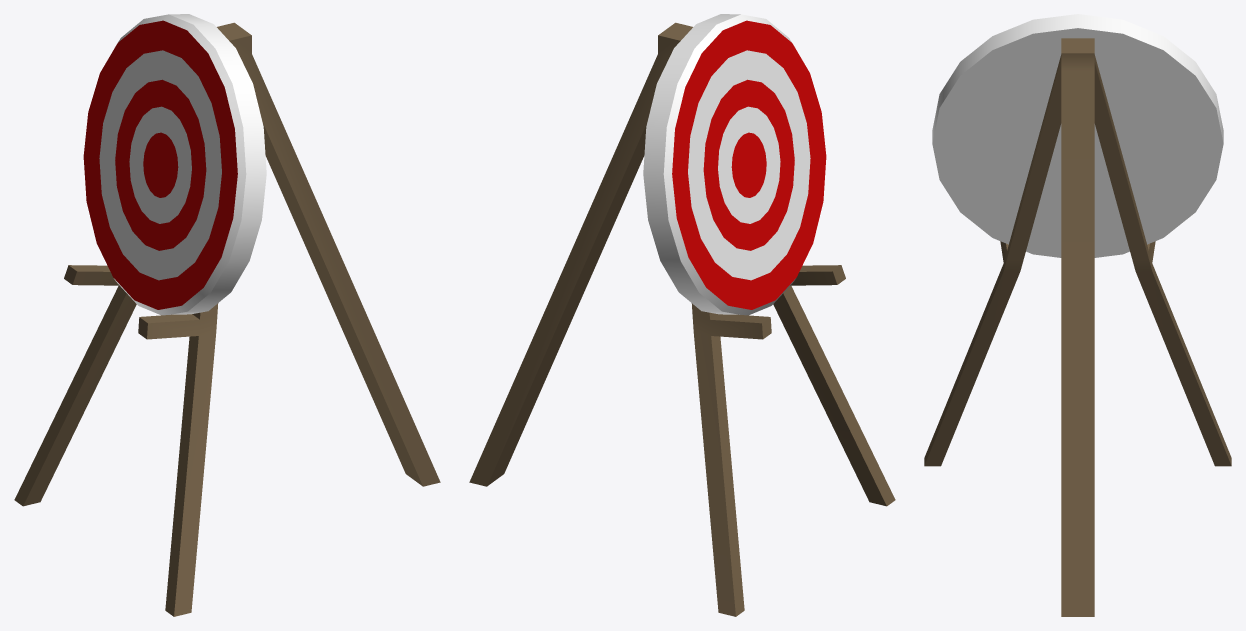
The model's file is target.fbx.
3 renders of one model, left to right at view 1: azimuth 30°, elevation 25°; view 2: azimuth 150°, elevation 25°; view 3: azimuth 270°, elevation 25°, orthographic. The views are drawn at different scales.
Visible parts, largest first — view 1: target_stand, ring4, ring3, target_back, ring2, ring1, center; view 2: target_stand, ring4, ring3, target_back, ring2, ring1, center; view 3: target_back, target_stand.
Boxes of the visible parts, x1,y1,x2,y2 form: target_stand: (14, 22, 440, 616); ring4: (83, 20, 237, 309); ring3: (99, 50, 221, 280); target_back: (114, 14, 266, 315); ring2: (115, 79, 206, 250); ring1: (129, 106, 191, 223); center: (143, 132, 178, 197); target_stand: (469, 22, 895, 616); ring4: (672, 20, 826, 309); ring3: (688, 50, 810, 280); target_back: (643, 14, 795, 315); ring2: (703, 79, 794, 250); ring1: (718, 106, 780, 223); center: (731, 132, 766, 197); target_back: (932, 14, 1223, 257); target_stand: (924, 38, 1231, 616).
Bounding box in the file's own units: 111 × 160 × 90.87.
